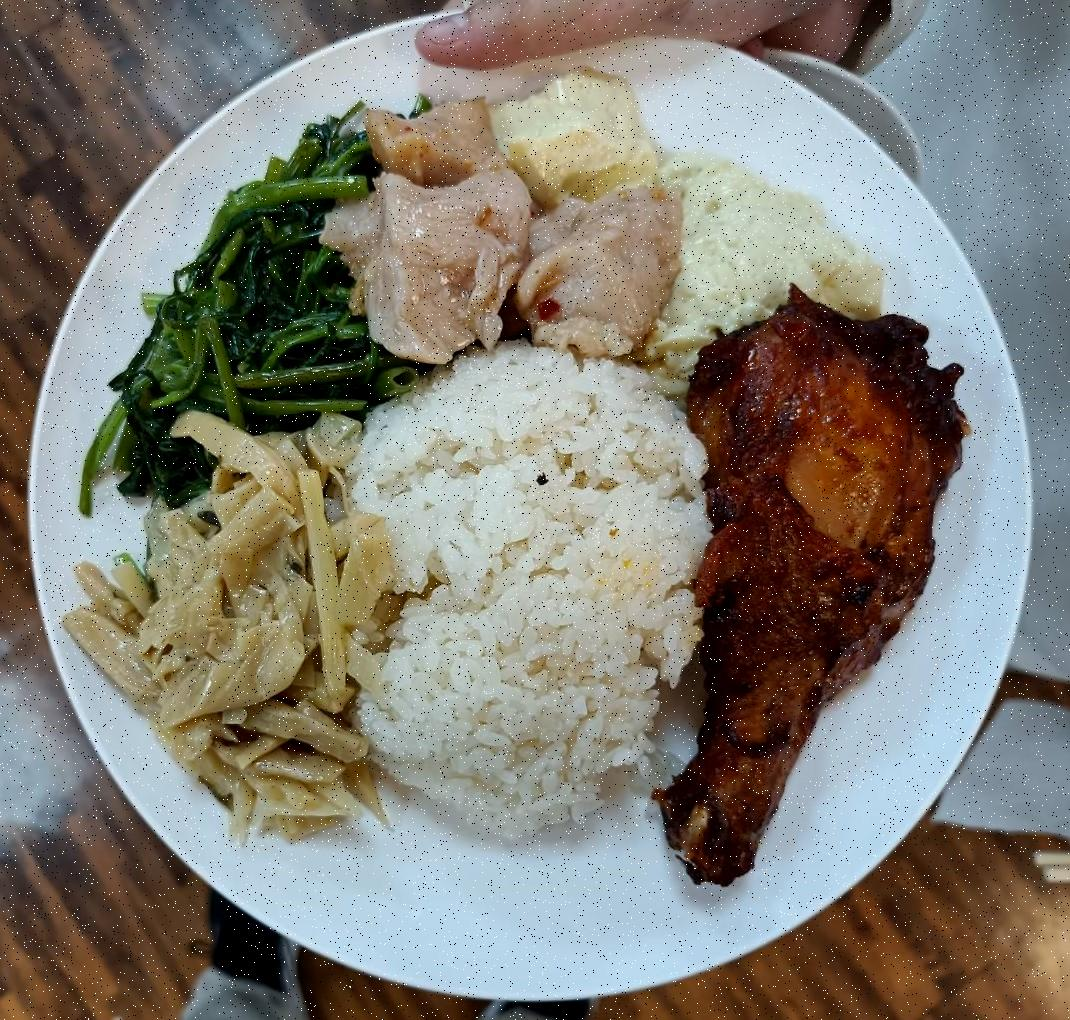honey grilled chicken leg: (632, 293, 963, 898)
plate: (38, 18, 1044, 1008)
scallion chicken: (331, 103, 684, 359)
side dish: (86, 83, 426, 513), (70, 403, 394, 844), (531, 66, 904, 352)
white rice: (320, 333, 718, 842)
